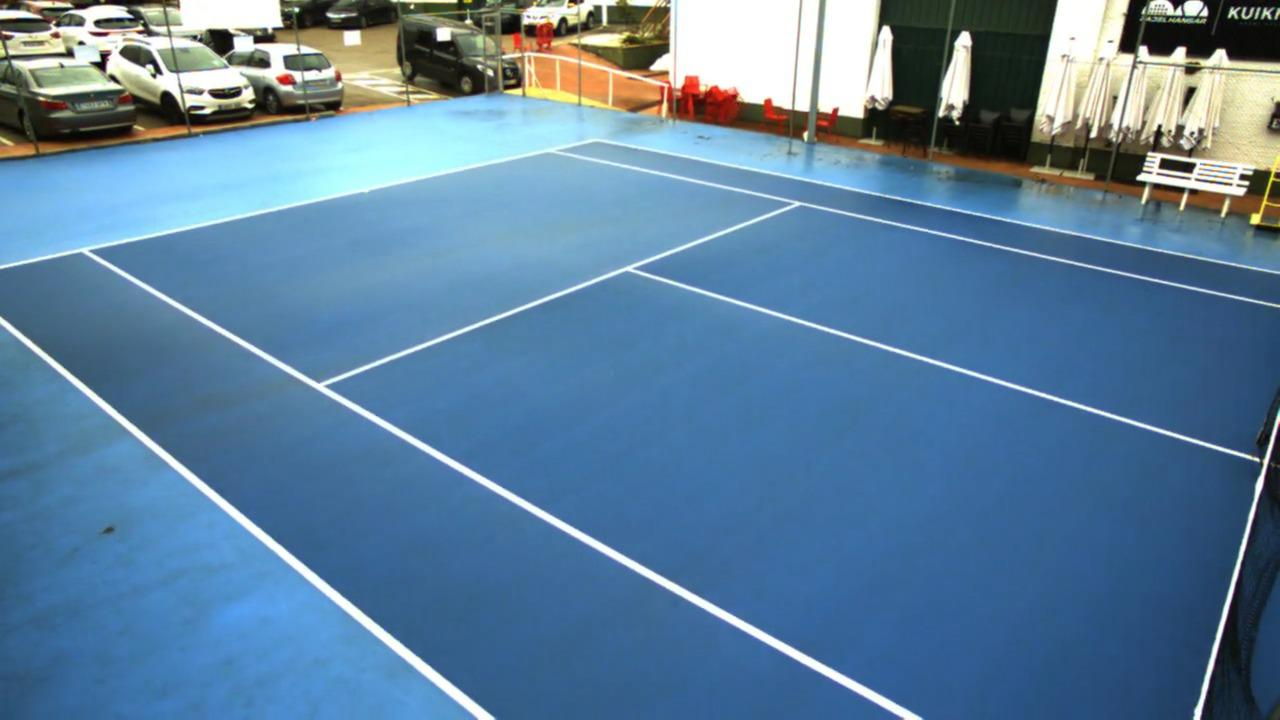cancha_tenis: (83, 151, 1280, 720)
point_f1: (72, 237, 104, 268)
point_f2: (537, 139, 572, 163)
point_fc1: (355, 183, 378, 199)
point_i1: (305, 369, 340, 401)
point_i2: (778, 191, 813, 215)
point_ic1: (617, 253, 652, 283)
